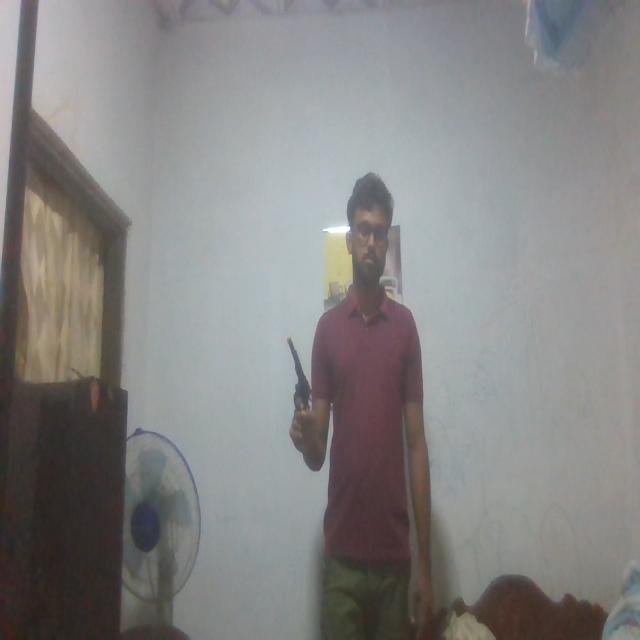Gun_Holder: (272, 331, 318, 437)
Person: (293, 163, 435, 640)
